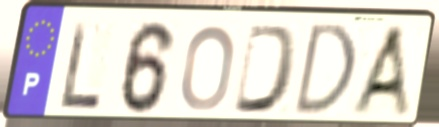6: (119, 18, 176, 116)
A: (348, 22, 415, 121)
D: (230, 21, 302, 116), (290, 21, 359, 119)
L: (59, 19, 104, 112)
O: (178, 22, 238, 113)
